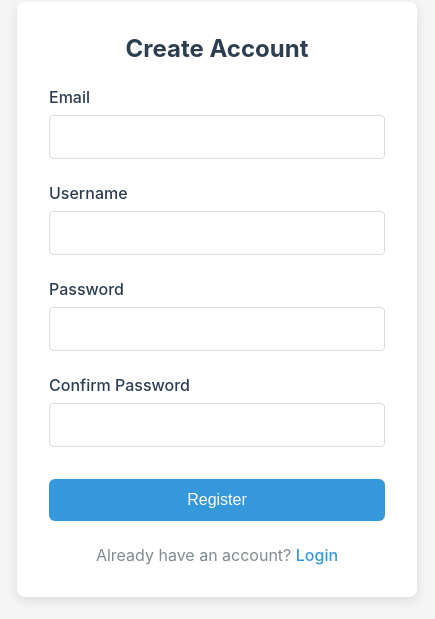
Test: Register Component › disables button while loading
In the field labelled "Email": [217, 137] box top-left (49, 115), bottom-right (385, 159), type "test@example.com"
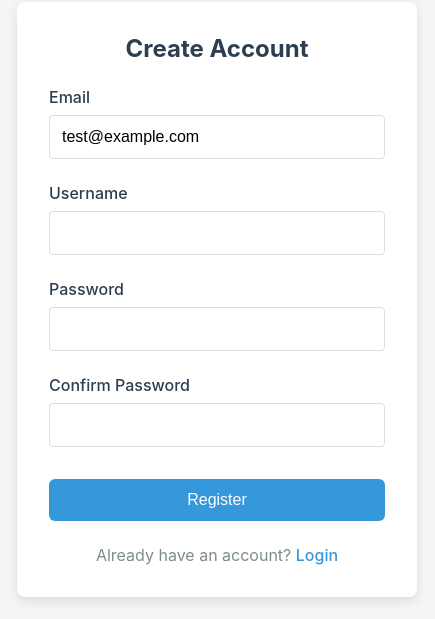
In the field labelled "Username": [217, 233] box top-left (49, 211), bottom-right (385, 255), type "testuser"
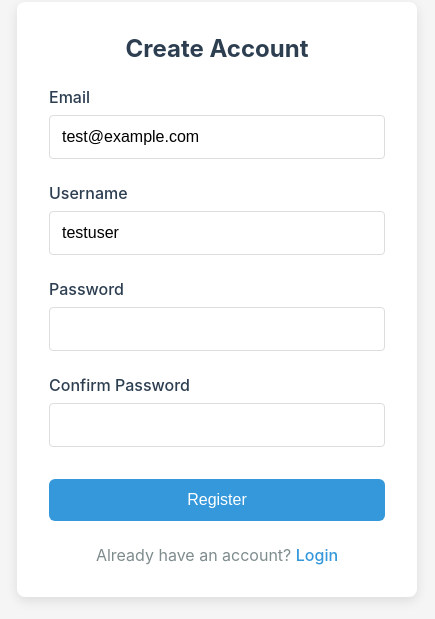
In the password field labelled "Password": [217, 329] box top-left (49, 307), bottom-right (385, 351), type "password123"
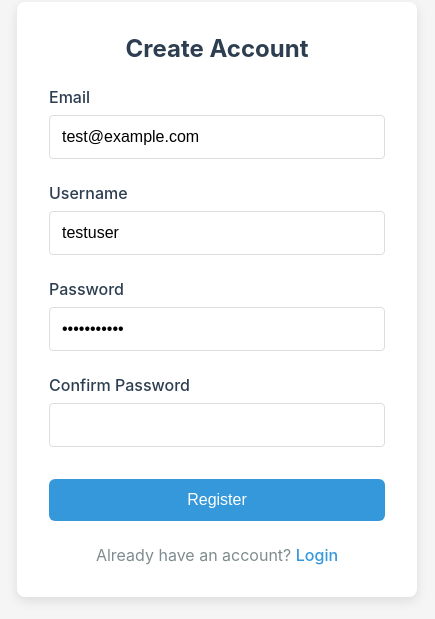
In the password field labelled "Confirm Password": [217, 425] box top-left (49, 403), bottom-right (385, 447), type "password123"
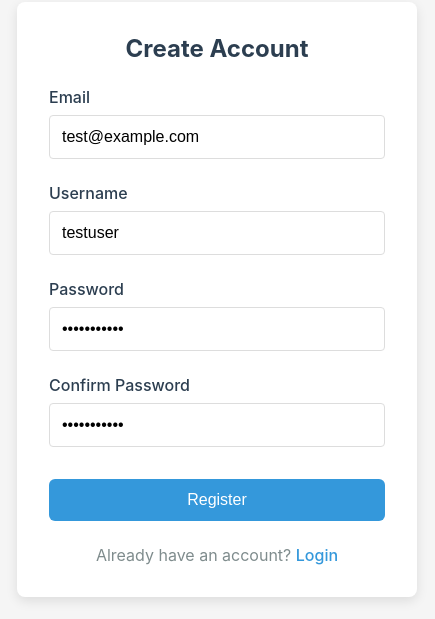
Click the button "Register": [217, 500] box top-left (49, 479), bottom-right (385, 521)
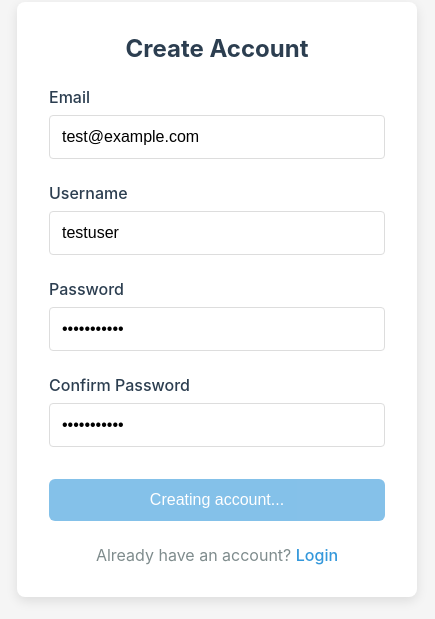
Check: the button named "register" is disabled, box top-left (49, 479), bottom-right (385, 521)
